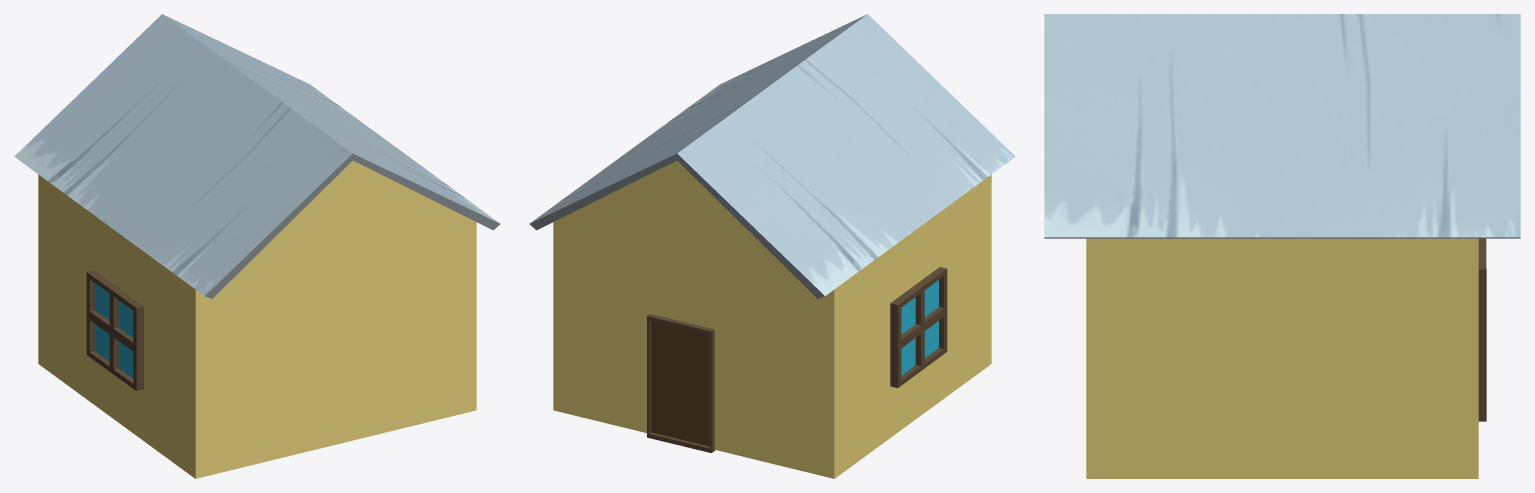
Rendered from CasaColor5.glb.
3 renders of one model, left to right at view 1: azimuth 30°, elevation 25°; view 2: azimuth 150°, elevation 25°; view 3: azimuth 270°, elevation 25°, orthographic. The views are drawn at different scales.
Visible parts, largest first — view 1: Estructura, techo, ventana; view 2: Estructura, techo, puerta, ventana; view 3: techo, Estructura, puerta.
Boxes of the visible parts, x1,y1,x2,y2 form: Estructura: (38, 160, 476, 478); techo: (14, 14, 500, 298); ventana: (86, 270, 143, 390); Estructura: (553, 160, 991, 478); techo: (529, 14, 1015, 298); puerta: (647, 313, 715, 452); ventana: (890, 267, 947, 387); techo: (1044, 14, 1520, 238); Estructura: (1086, 238, 1478, 478); puerta: (1478, 238, 1486, 421).
Bounding box in the file's own units: 4.75 × 4.66 × 5.29.
6 materials, 1 textured.
